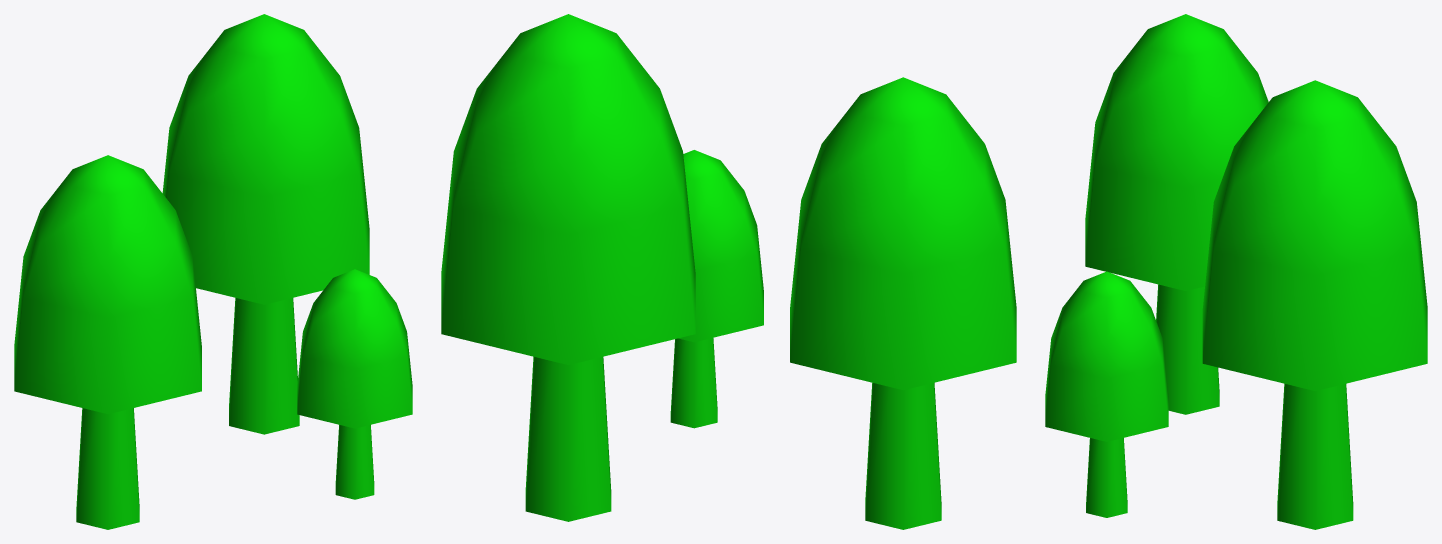
Rendered from m_mushroom4.fbx.
The picture shows the model from 3 angles, left to right: view 1: azimuth 30°, elevation 25°; view 2: azimuth 150°, elevation 25°; view 3: azimuth 270°, elevation 25°; orthographic projection. The views are drawn at different scales.
Visible parts, largest first — view 1: m_mushroom2; view 2: m_mushroom2; view 3: m_mushroom2.
Boxes of the visible parts, left/top/right/bottom form: m_mushroom2: left=14, top=14, right=412, bottom=529; m_mushroom2: left=441, top=14, right=1016, bottom=529; m_mushroom2: left=1045, top=14, right=1427, bottom=529.
Bounding box in the file's own units: 1.24 × 1.15 × 0.9208.
